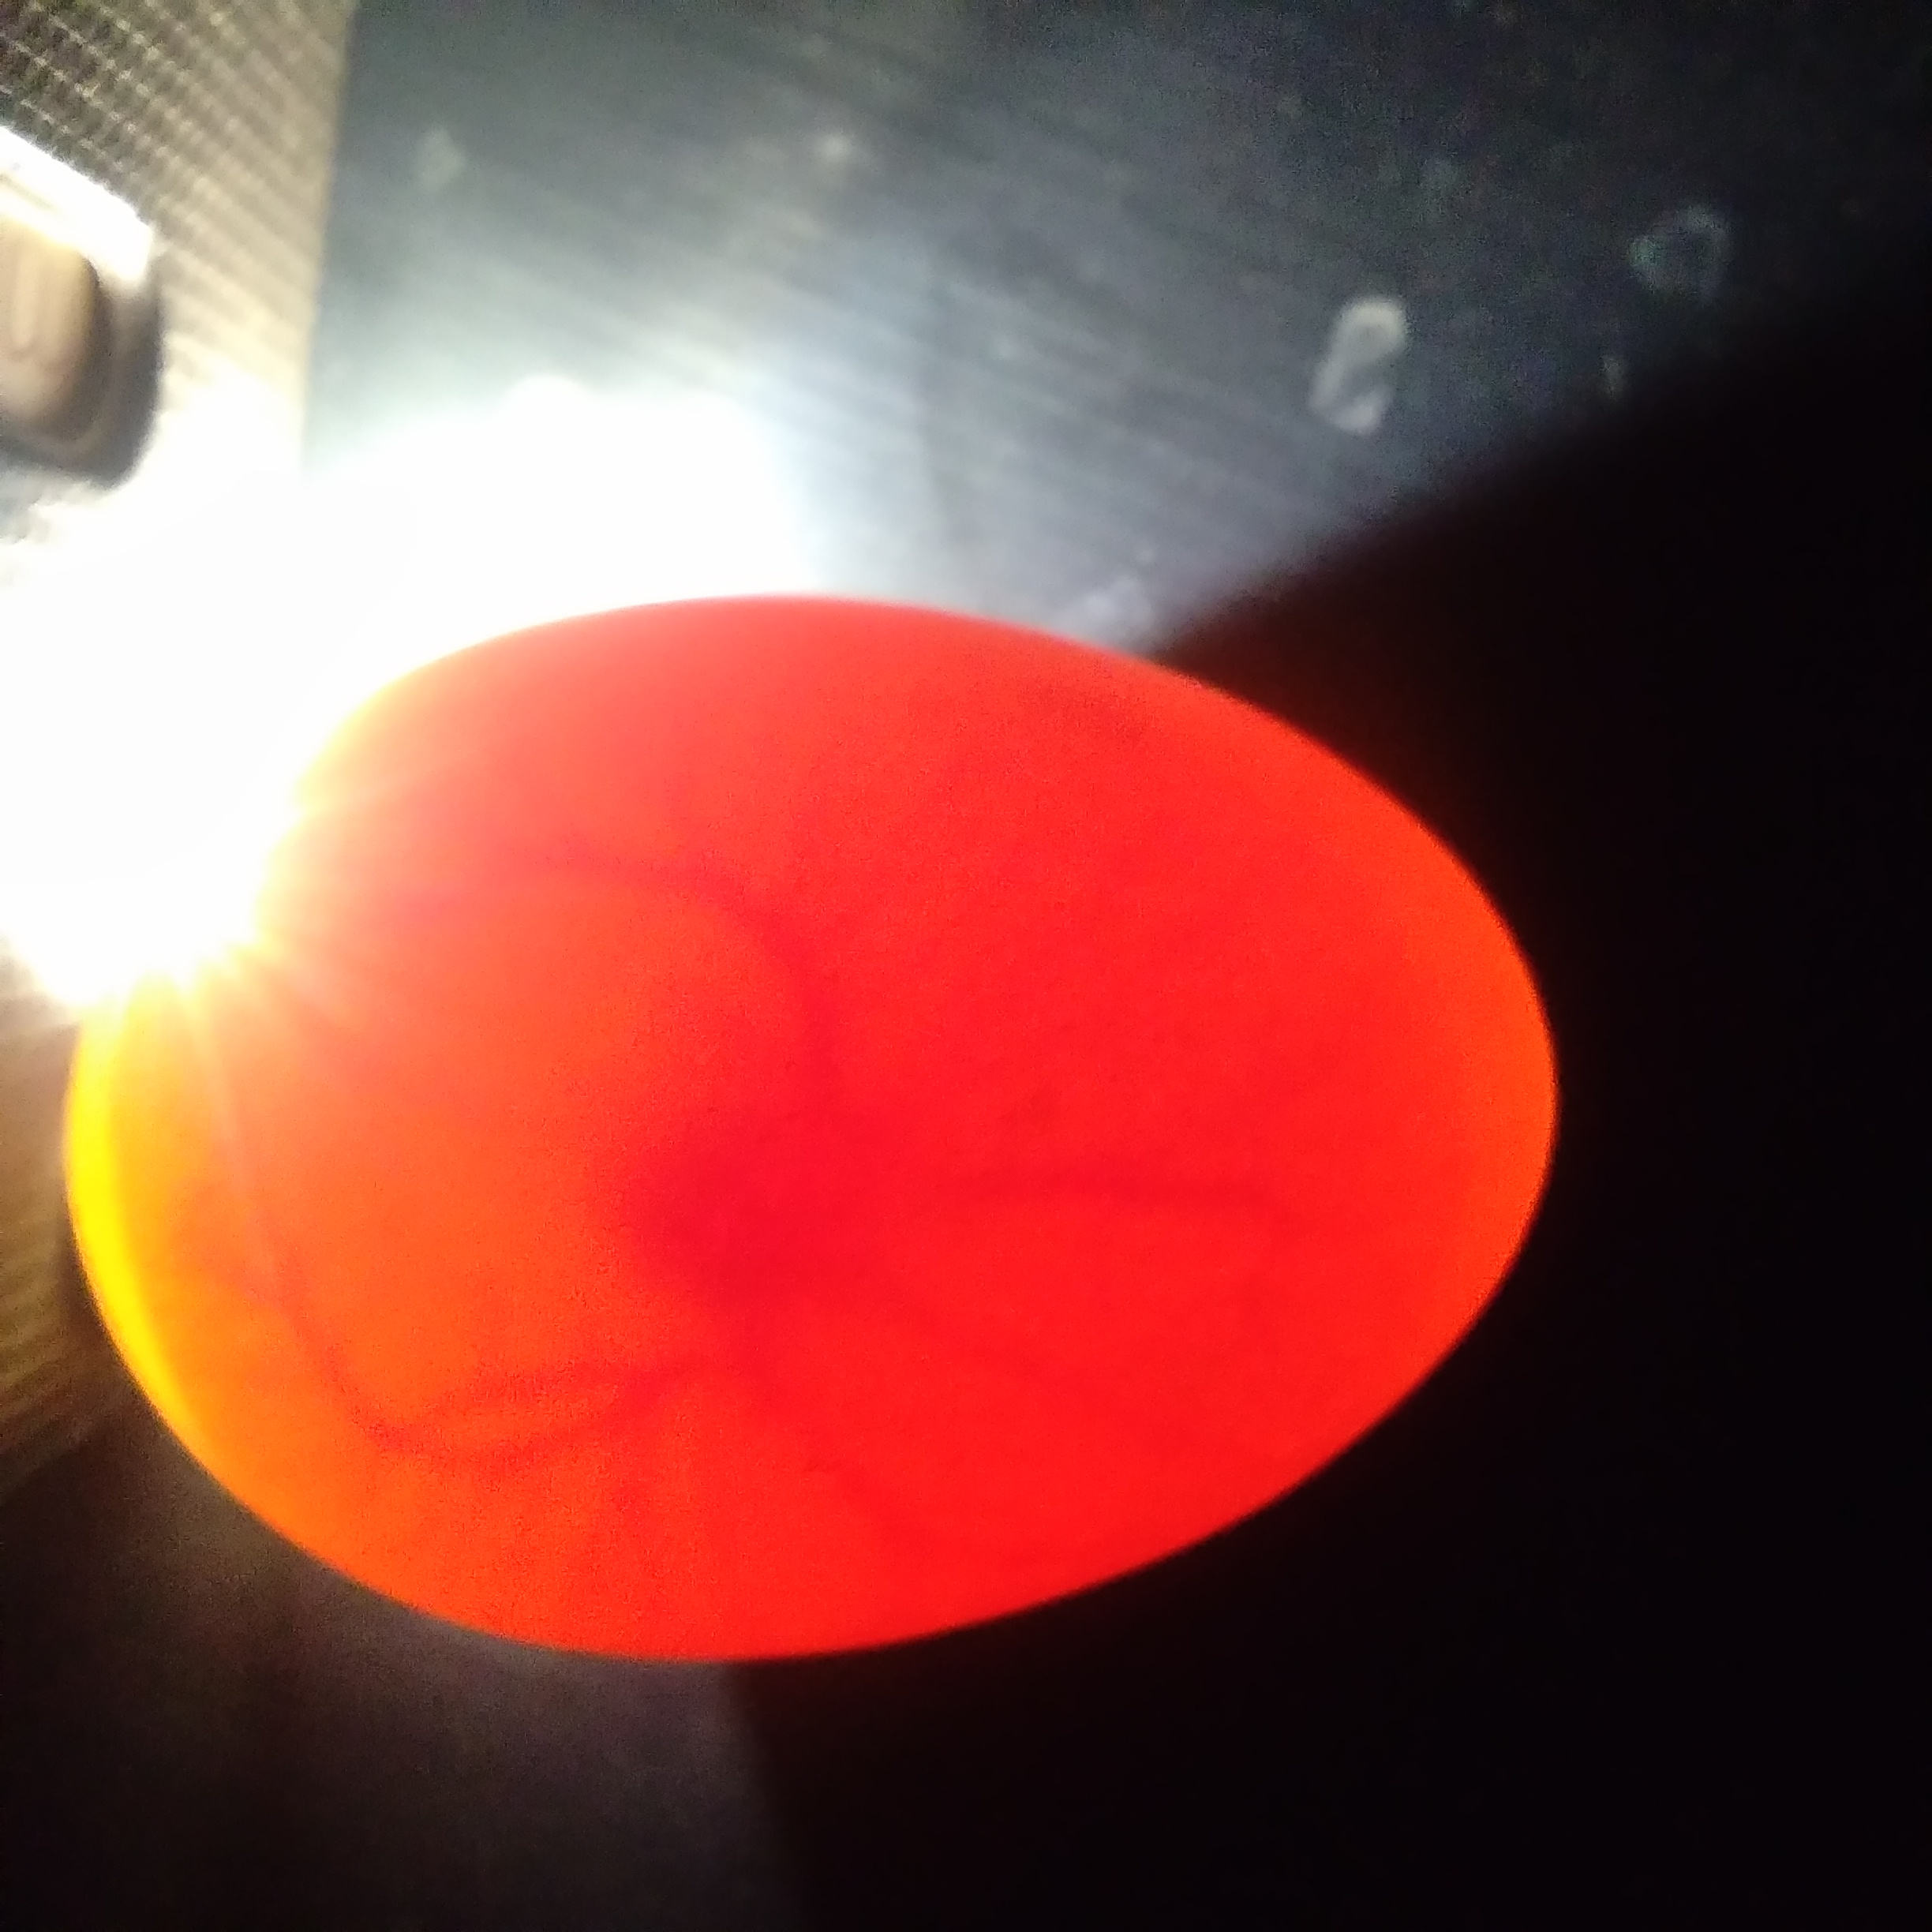bloodcell: (265, 1247, 651, 1523)
embryo: (671, 1058, 978, 1376)
